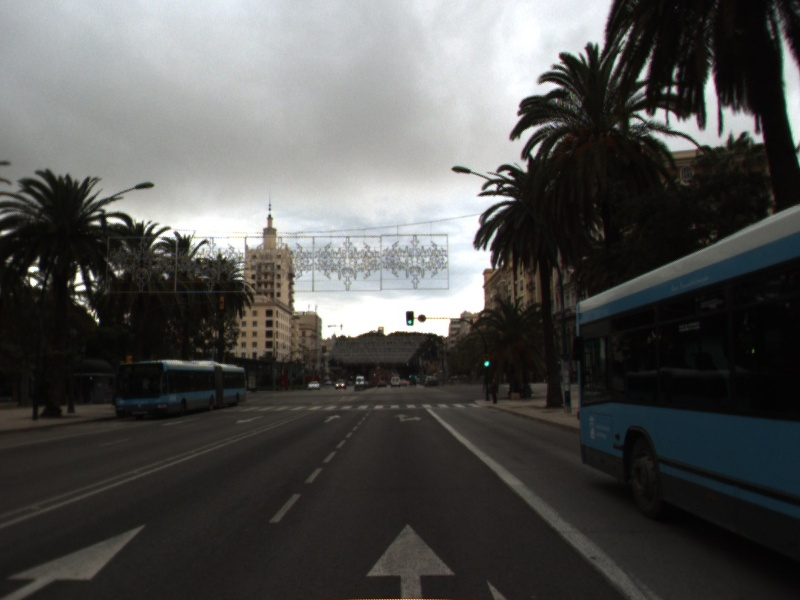STRAIGHT: (1, 520, 150, 600), (364, 521, 458, 600), (321, 413, 343, 424)
STRAIGHT_RIGHT: (392, 412, 425, 424)
